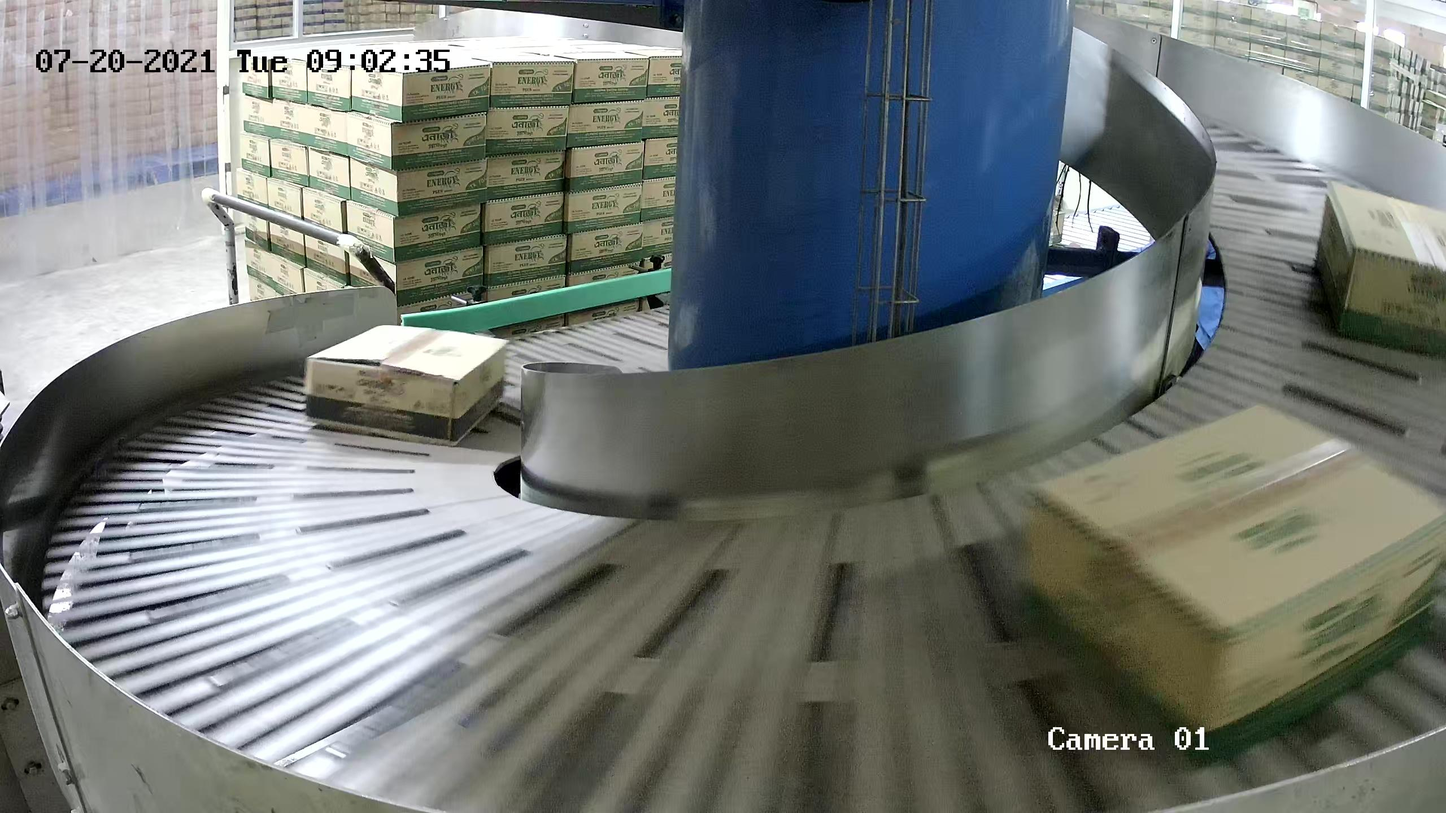Box: (1025, 402, 1446, 766), (1308, 168, 1446, 366), (302, 324, 509, 448)
